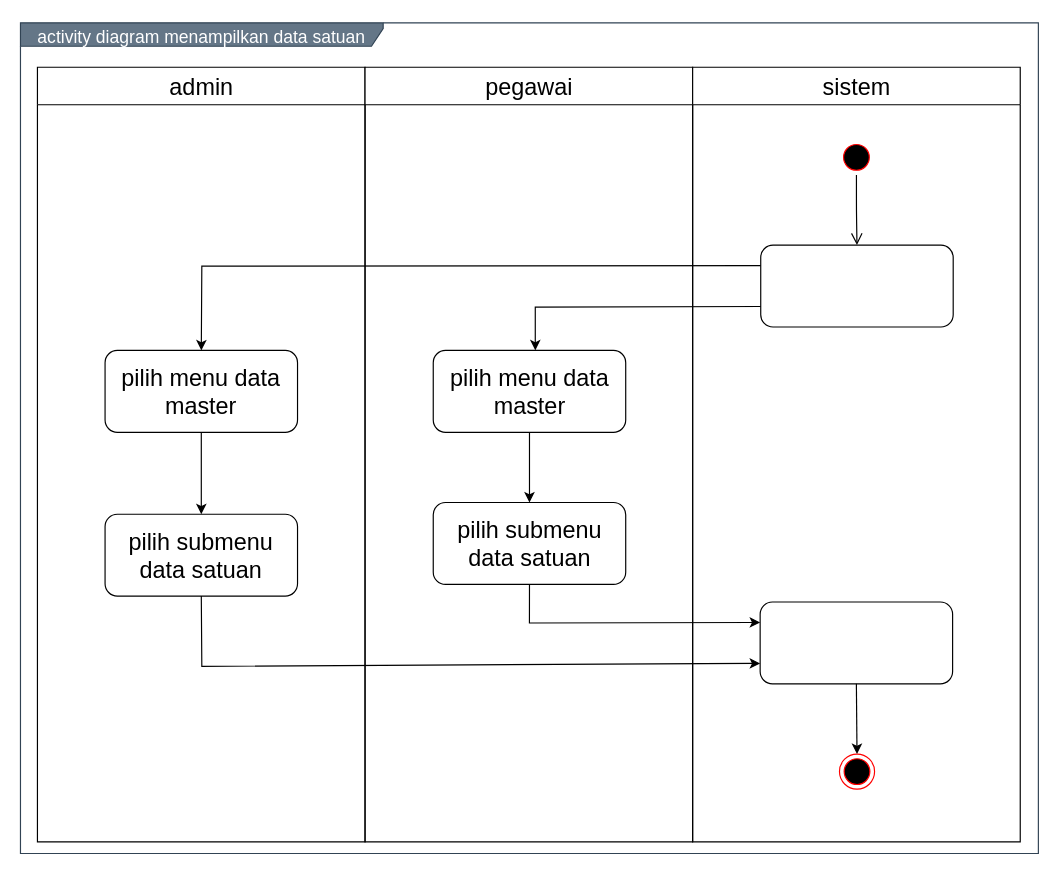
The diagram is 1059 pixels wide and 874 high, and some of its shapes have lost their labels. The shapes that lost their labels are listed below. From the top down, each one's centre as x and y in pixels, then its label:
(856,285): menampilkan dashboard sesuai rolenya
(856,642): menampilkan data satuan
